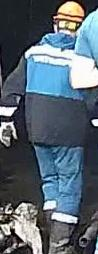gloves: (0, 113, 20, 149)
helmet: (52, 0, 86, 33)
vest: (23, 43, 97, 147)
